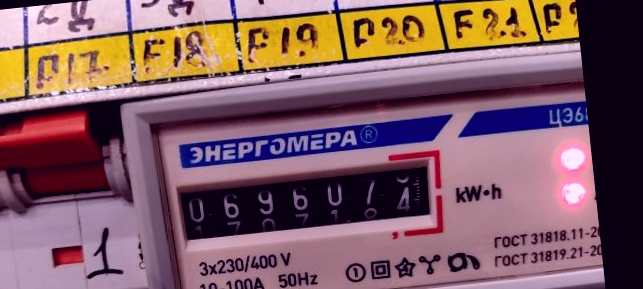0: (323, 176, 345, 208), (185, 193, 206, 223)
4: (393, 184, 412, 213)
6: (288, 181, 310, 212), (220, 189, 242, 218)
7: (359, 174, 379, 206)
9: (255, 186, 274, 216)
screen: (160, 141, 453, 259)
